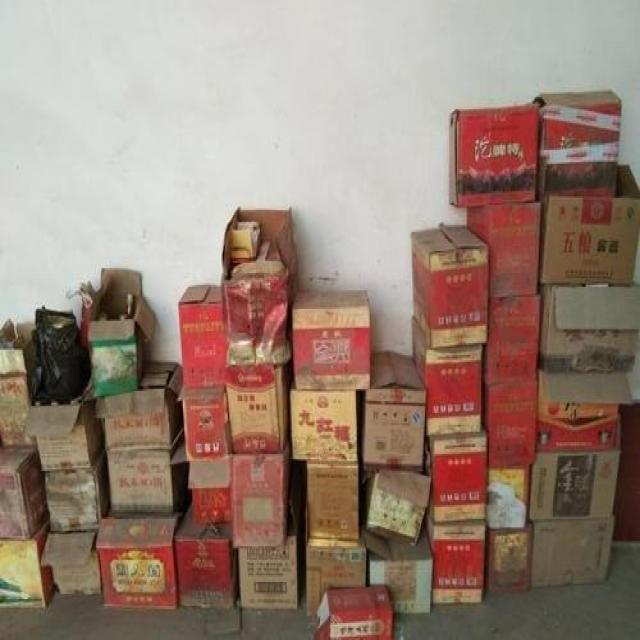box: (544, 163, 634, 289), (410, 220, 488, 352), (538, 90, 628, 196), (409, 314, 484, 438), (290, 277, 370, 392), (448, 104, 540, 202), (538, 286, 640, 369), (98, 517, 184, 612), (362, 346, 427, 468), (532, 360, 623, 447), (522, 442, 624, 518), (103, 361, 186, 454), (529, 514, 624, 592), (463, 208, 545, 296), (106, 450, 201, 518), (176, 516, 247, 606), (85, 285, 148, 385), (473, 288, 541, 380), (424, 514, 486, 608), (288, 384, 358, 466), (366, 528, 434, 612), (423, 440, 488, 526), (31, 400, 113, 468), (303, 461, 364, 550), (0, 527, 63, 613), (480, 382, 540, 472), (230, 371, 288, 456), (38, 462, 110, 528), (0, 447, 50, 540), (181, 282, 226, 384), (232, 456, 286, 538), (236, 544, 300, 610), (178, 384, 234, 456), (50, 533, 106, 601), (184, 461, 236, 519)
